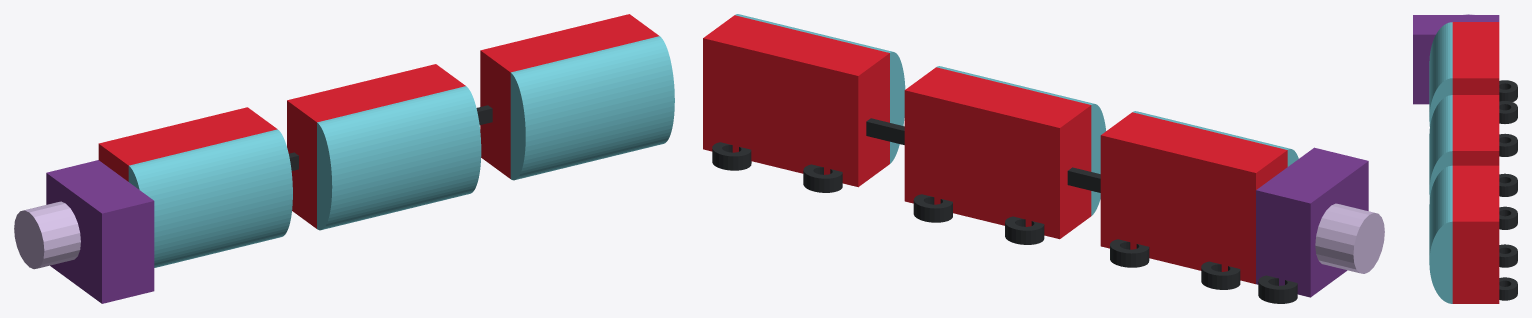
File: tinker.obj
The picture shows the model from 3 angles, left to right: view 1: azimuth 30°, elevation 25°; view 2: azimuth 150°, elevation 25°; view 3: azimuth 270°, elevation 25°; orthographic projection. The views are drawn at different scales.
Visible parts, largest first — view 1: group_0_7720667, group_0_15277357, group_0_8273816, group_0_13877221; view 2: group_0_15277357, group_0_8273816, group_0_2829873, group_0_13877221, group_0_7720667; view 3: group_0_15277357, group_0_7720667, group_0_2829873, group_0_8273816.
Boxes of the visible parts, left/top/right/bottom form: group_0_7720667: left=128, top=36, right=674, bottom=267; group_0_15277357: left=98, top=14, right=659, bottom=228; group_0_8273816: left=46, top=160, right=154, bottom=303; group_0_13877221: left=14, top=201, right=80, bottom=269; group_0_15277357: left=703, top=15, right=1287, bottom=284; group_0_8273816: left=1256, top=147, right=1368, bottom=297; group_0_2829873: left=712, top=118, right=1297, bottom=303; group_0_13877221: left=1315, top=203, right=1384, bottom=273; group_0_7720667: left=735, top=14, right=1298, bottom=215; group_0_15277357: left=1452, top=22, right=1499, bottom=303; group_0_7720667: left=1429, top=22, right=1452, bottom=303; group_0_2829873: left=1499, top=80, right=1517, bottom=300; group_0_8273816: left=1413, top=15, right=1499, bottom=104.
Bounding box in the file's own units: 237 × 41 × 45.
